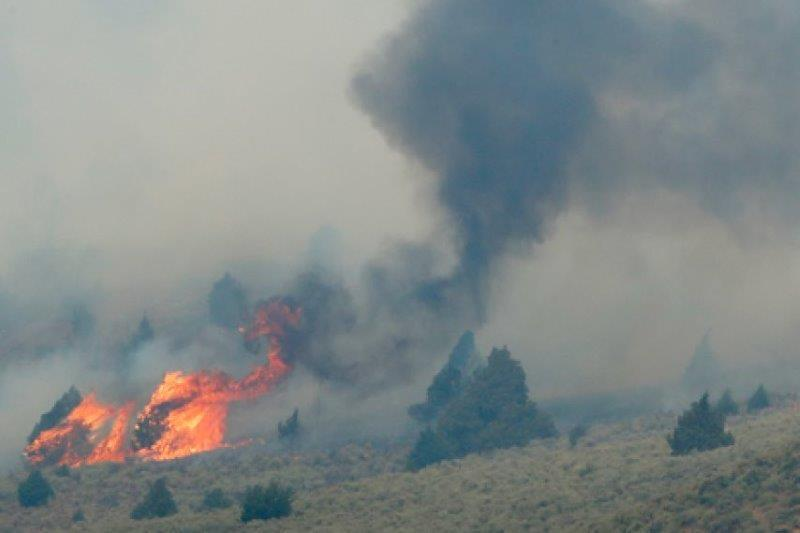Fire: (132, 359, 280, 460), (32, 394, 129, 463)
